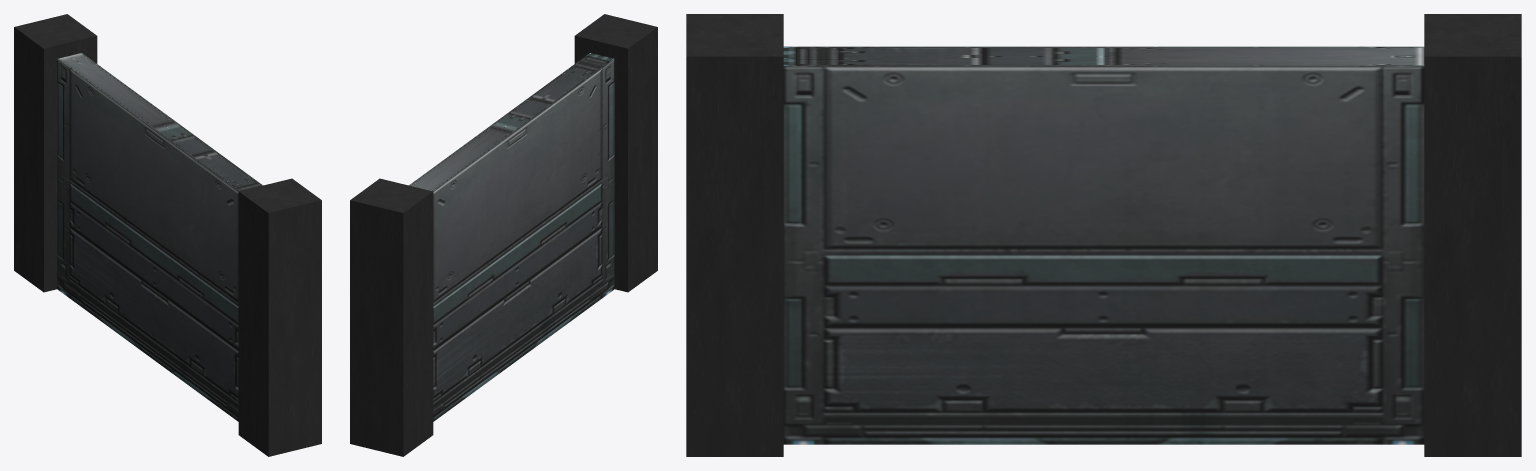
The model's file is Gate.FBX.
The picture shows the model from 3 angles, left to right: view 1: azimuth 30°, elevation 25°; view 2: azimuth 150°, elevation 25°; view 3: azimuth 270°, elevation 25°; orthographic projection. The views are drawn at different scales.
Parts seen in each view (by area): view 1: Box48, Box49, Box47; view 2: Box48, Box47, Box49; view 3: Box48, Box49, Box47.
Boxes of the visible parts, x1=… form: Box48: x1=57, y1=53, x2=262, y2=421; Box49: x1=238, y1=178, x2=321, y2=456; Box47: x1=14, y1=14, x2=97, y2=292; Box48: x1=409, y1=53, x2=614, y2=421; Box47: x1=350, y1=178, x2=433, y2=456; Box49: x1=574, y1=14, x2=657, y2=292; Box48: x1=783, y1=46, x2=1424, y2=444; Box49: x1=686, y1=14, x2=783, y2=456; Box47: x1=1424, y1=14, x2=1521, y2=456.
Size of the model in its own units: 15.58 by 68.08 by 129.
2 materials, 2 textured.
